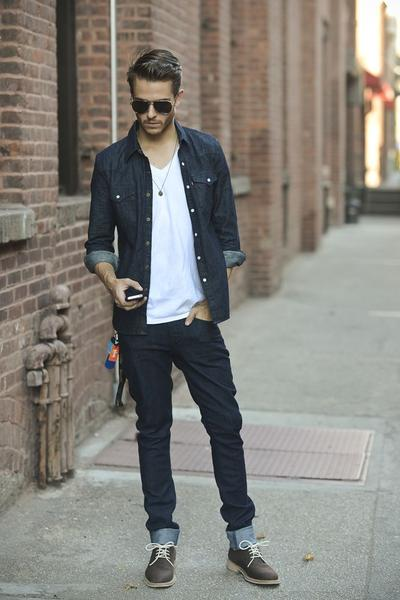jeans: (120, 319, 262, 531)
sunglasses: (127, 99, 172, 116)
